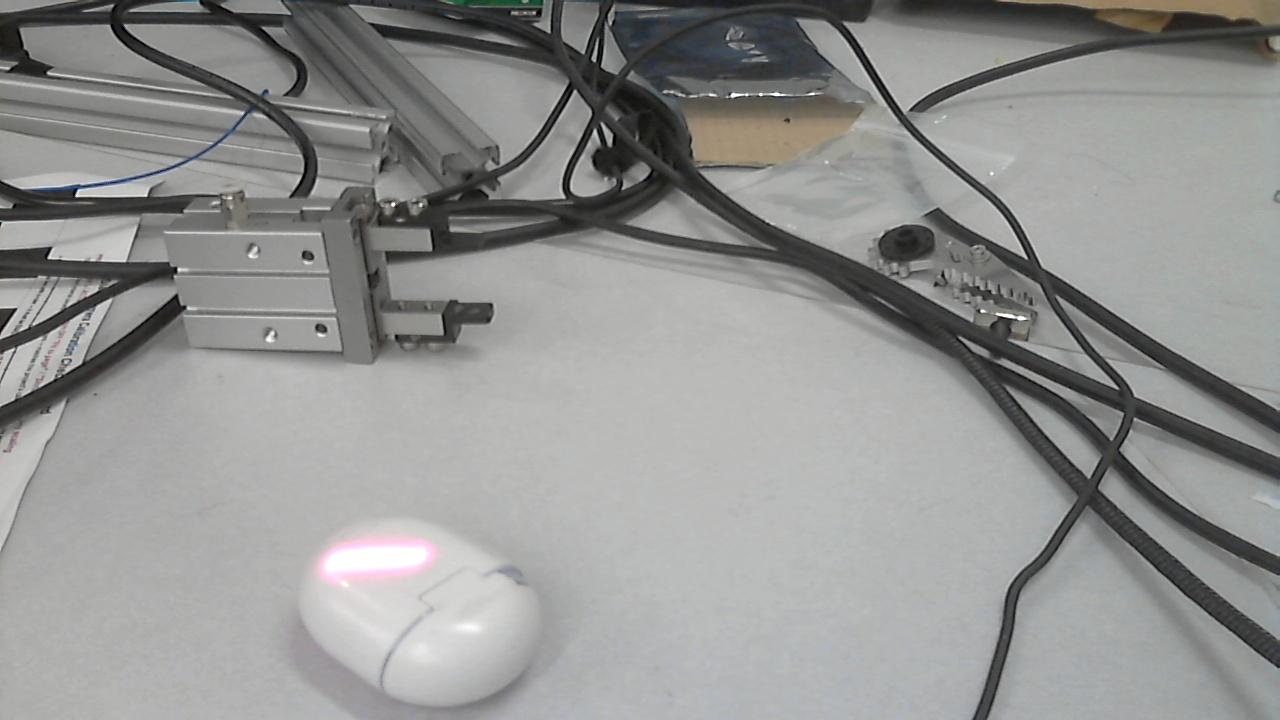Object wireless earbud charging case - Material plastic - Pdfname qzJIPQkli2jB: (299, 526, 441, 584)
